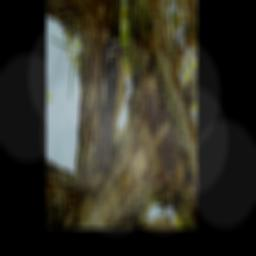Woodpecker: (74, 23, 150, 175)
